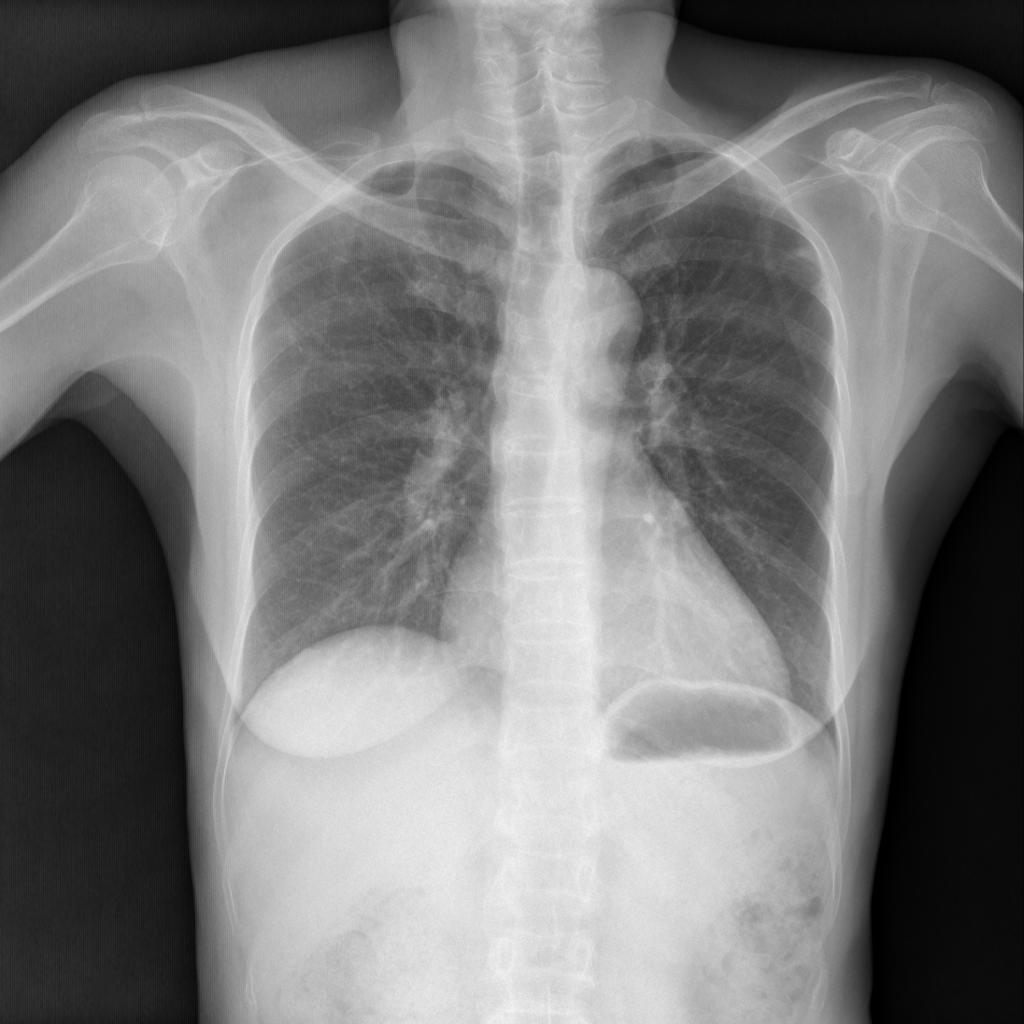Nodule: (751, 226, 835, 288)
